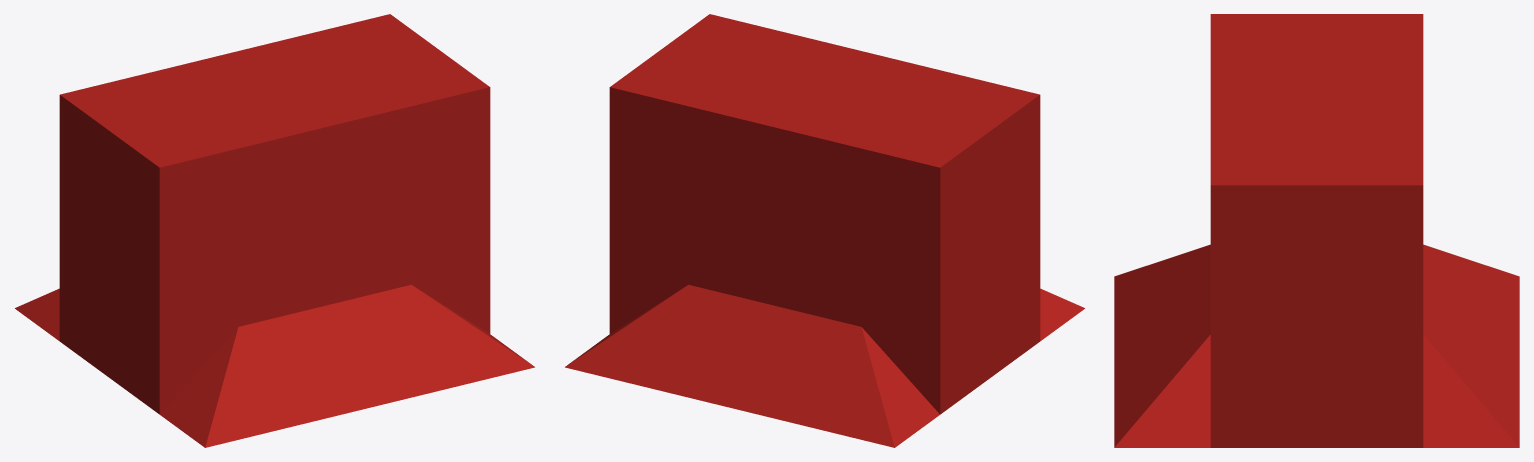
File: heart.obj
3 views of the same model, side by side, from view 1: azimuth 30°, elevation 25°; view 2: azimuth 150°, elevation 25°; view 3: azimuth 270°, elevation 25° (orthographic). The views are drawn at different scales.
Visible parts, largest first — view 1: heart; view 2: heart; view 3: heart.
Boxes of the visible parts, x1,y1,x2,y2 form: heart: (15,14,534,447); heart: (565,14,1084,447); heart: (1114,14,1519,447).
Size of the model in its own units: 0.84 by 0.6 by 0.84.
